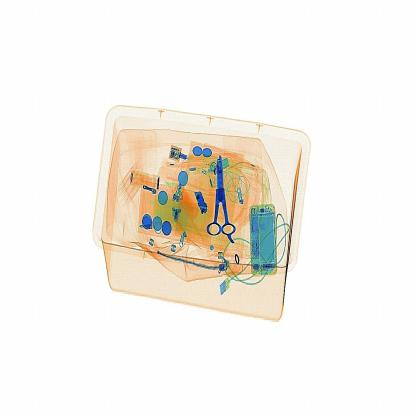gun: (207, 150, 242, 251)
